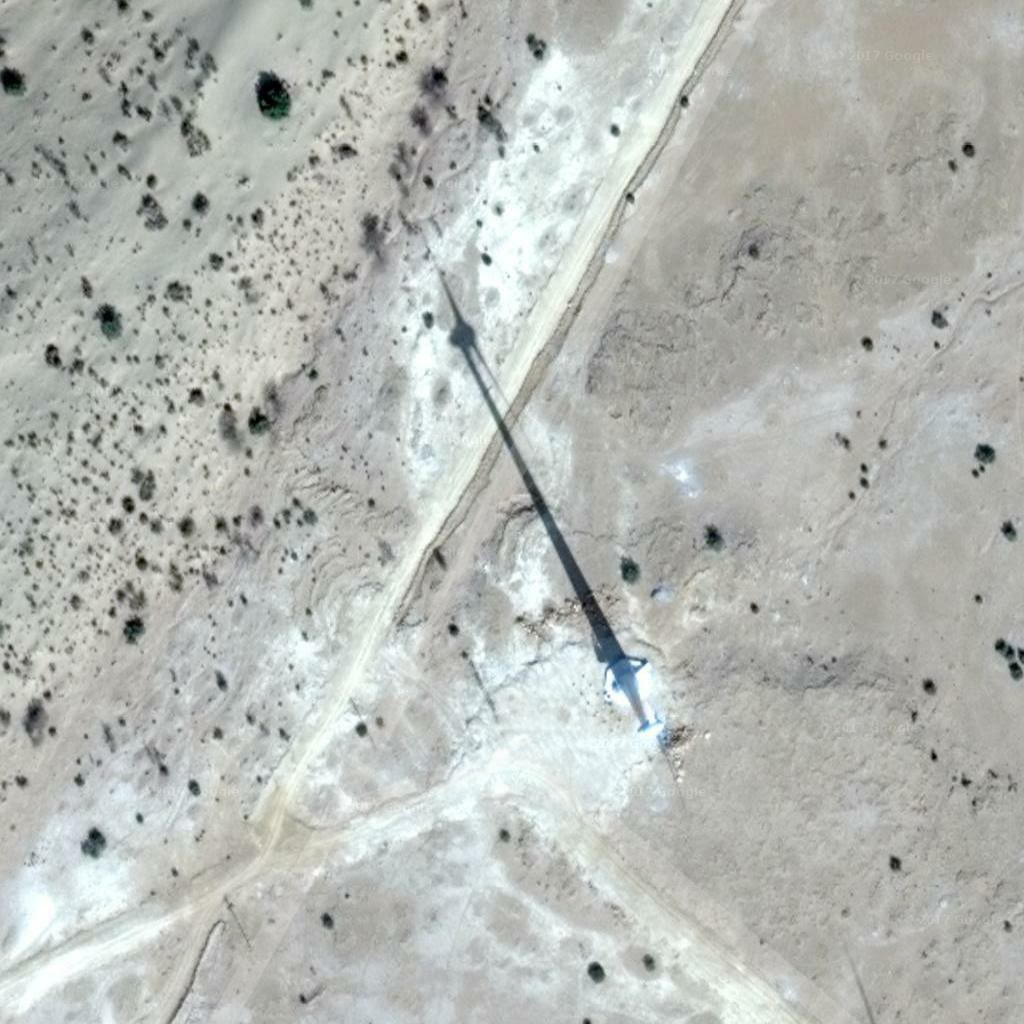Windmill: (406, 244, 639, 671)
